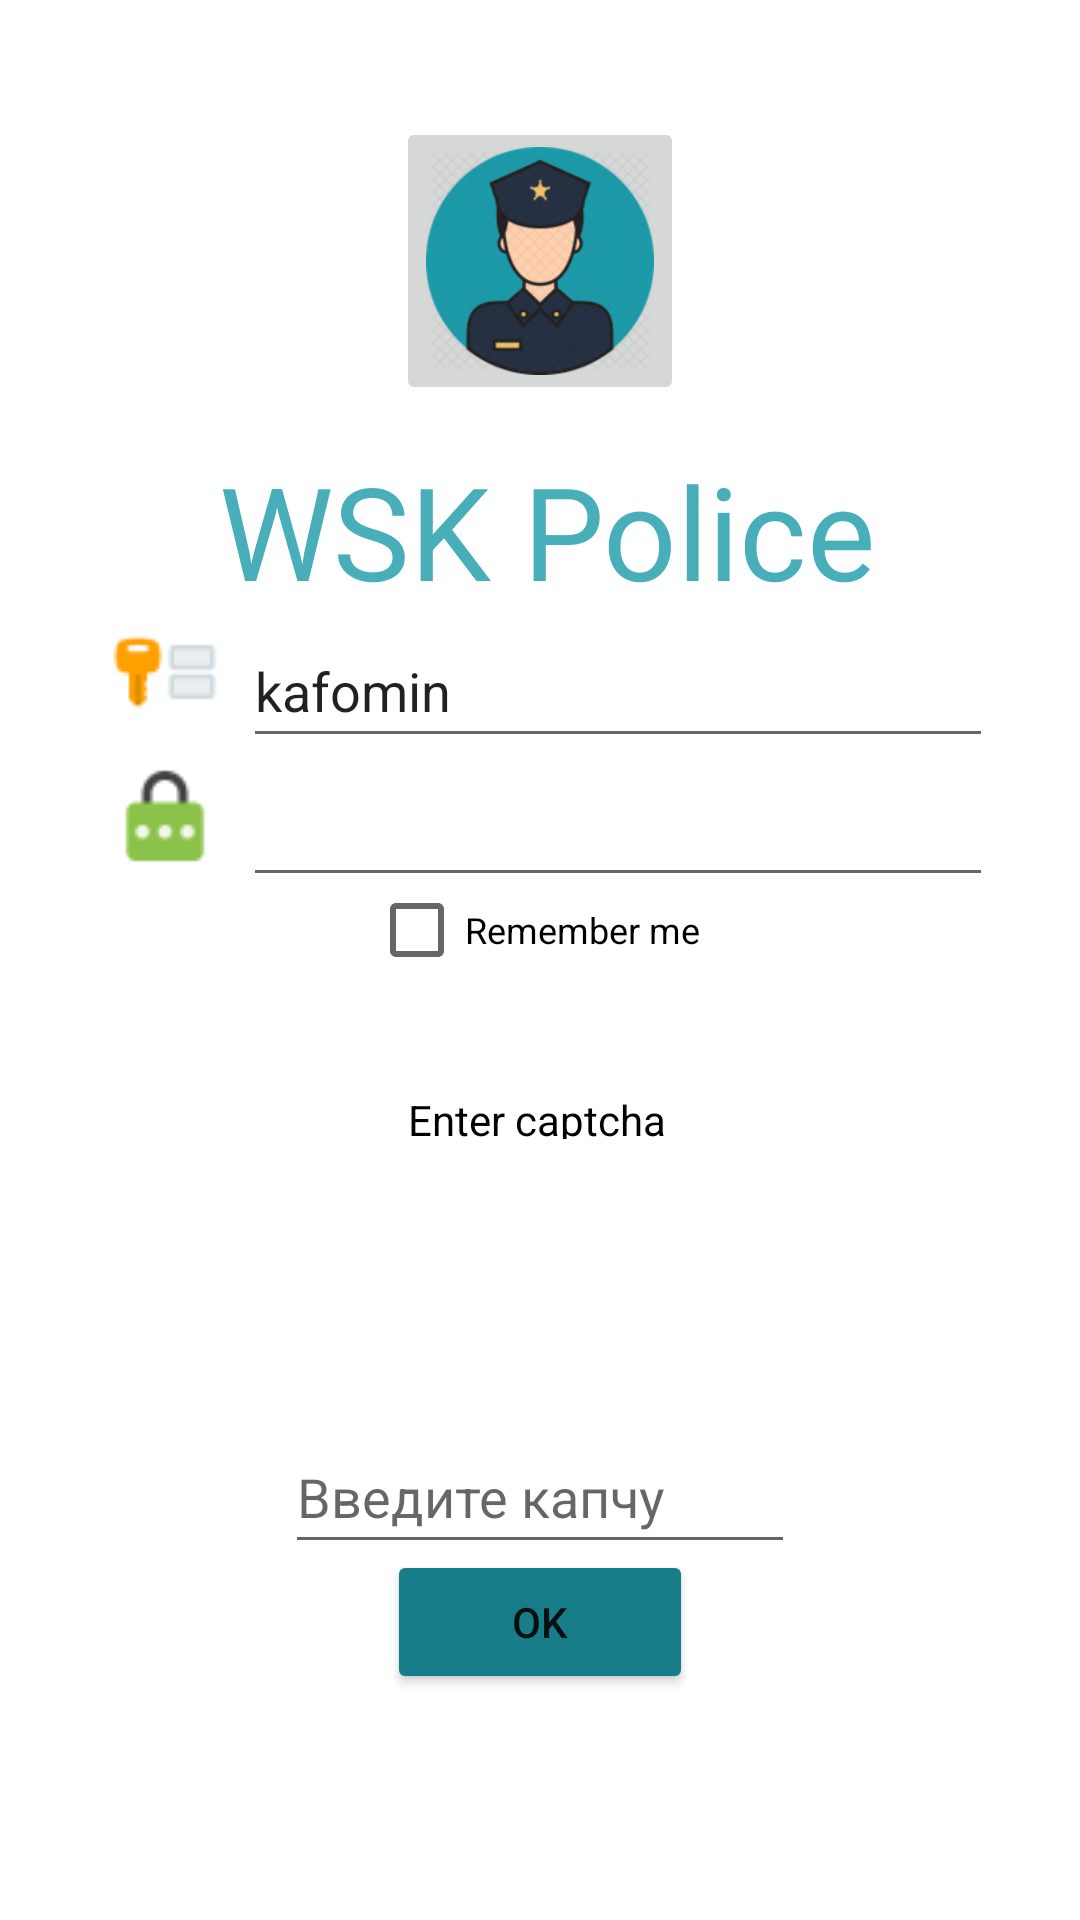

Point at icon controls on the screen. Image size 1080 x 1920, points as [x,y].
log: [164,672]
pass: [165,816]
policeman: [540,261]
